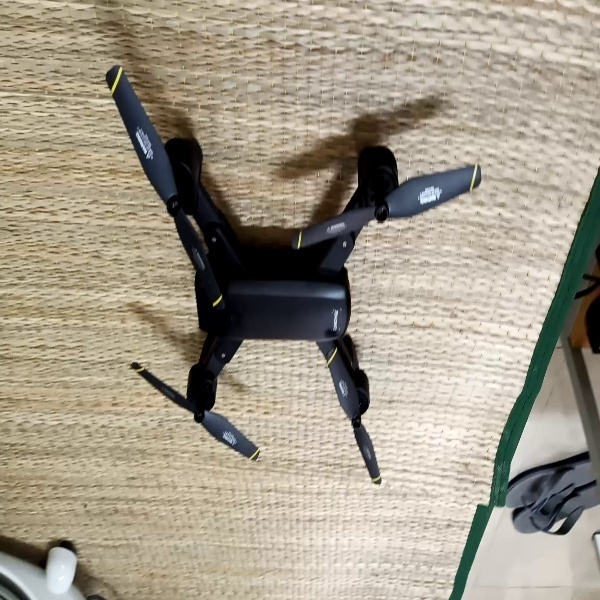drone: (103, 60, 485, 486)
